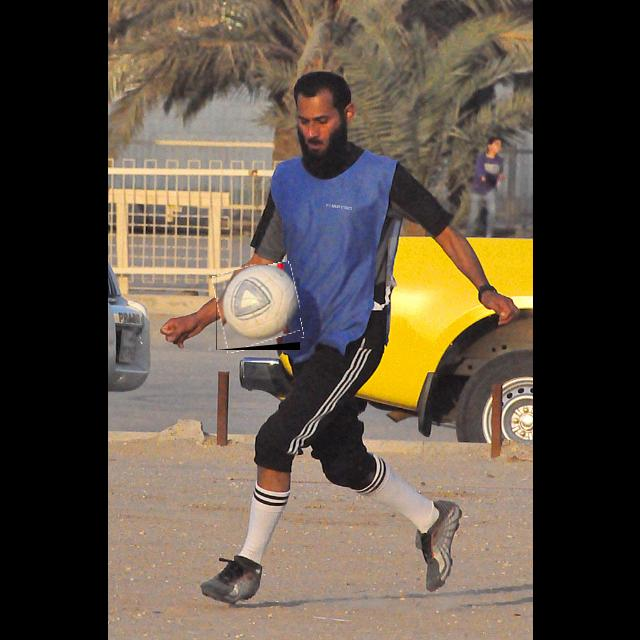Football: (216, 264, 300, 350)
